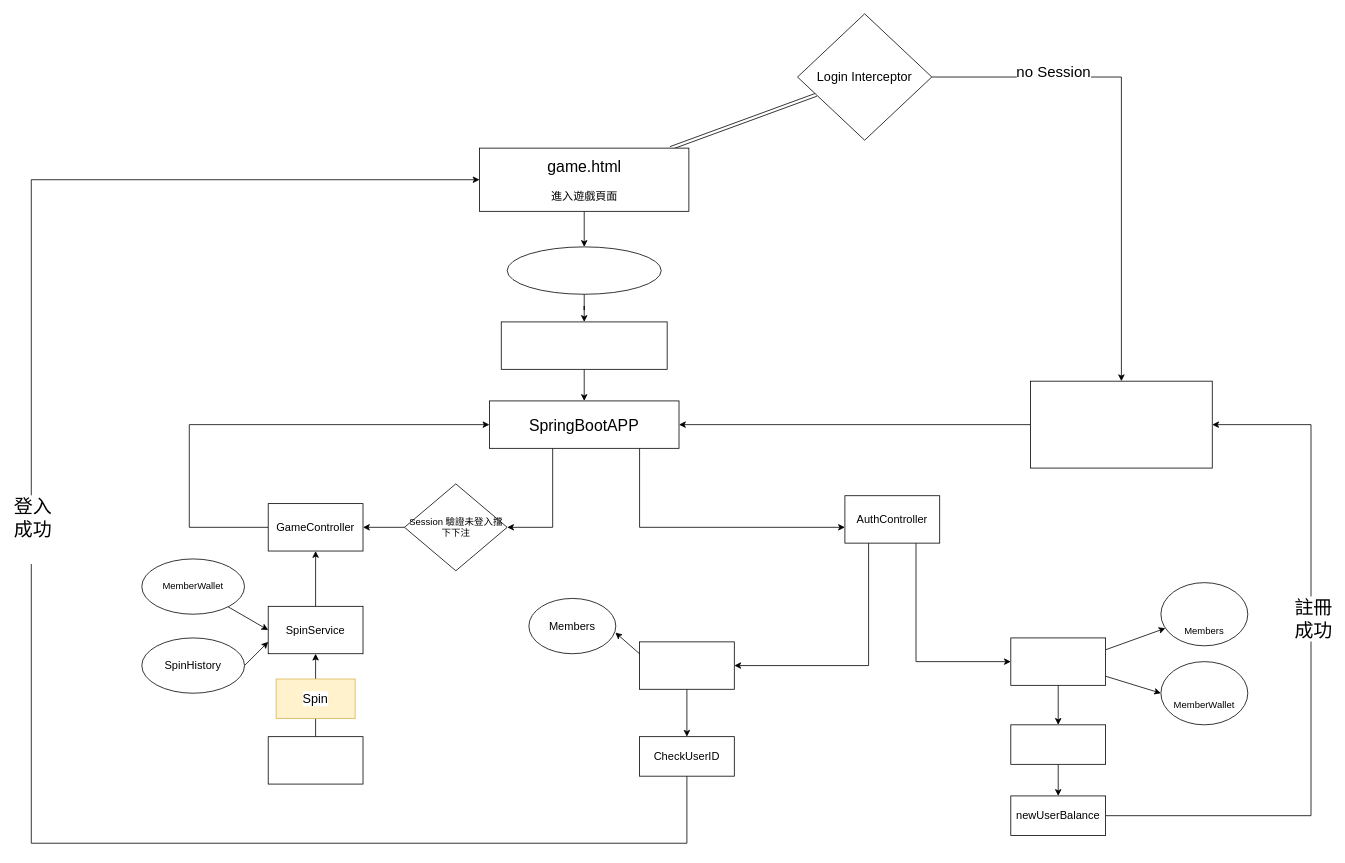
Image size: 1345x863. Some labels were removed from this diagram. Here are the shapes that lost their labels. From the top down, the centre of each, then its label:
[583,270]: 玩家下注
[583,345]: 前端瀏覽器呼叫API
[1121,424]: index.html 登入首頁: 輸入帳號密碼 1. 登入 2. 註冊
[686,665]: LoginService
[1058,661]: RegisterService
[315,760]: Engine
[1058,744]: newUserRegister
